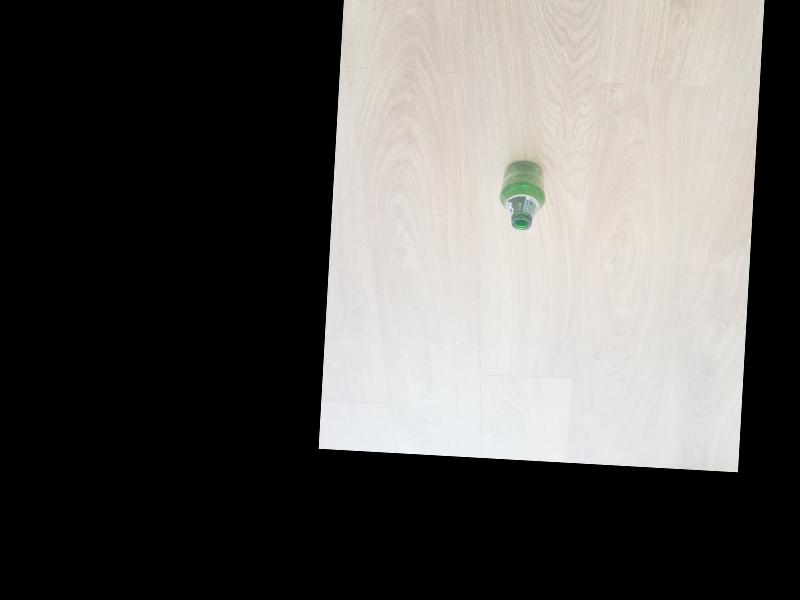Beer: (499, 158, 550, 231)
